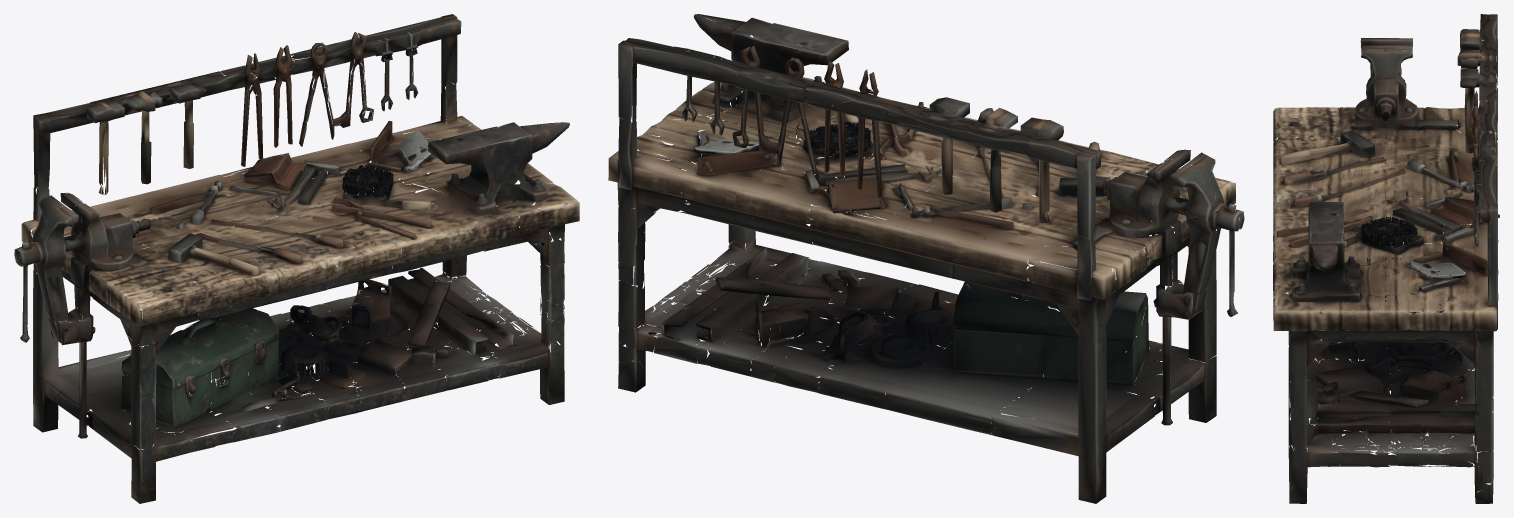
The model's file is workbench.glb.
The picture shows the model from 3 angles, left to right: view 1: azimuth 30°, elevation 25°; view 2: azimuth 150°, elevation 25°; view 3: azimuth 270°, elevation 25°; orthographic projection. The views are drawn at different scales.
Parts seen in each view (by area): view 1: geometry_0; view 2: geometry_0; view 3: geometry_0.
Boxes of the visible parts, bbox=[...] form: geometry_0: bbox=[14, 14, 579, 503]; geometry_0: bbox=[608, 14, 1244, 503]; geometry_0: bbox=[1273, 14, 1499, 503].
Size of the model in its own units: 2.6 by 1.57 by 1.04.
Materials: 1 (1 with a texture image).
